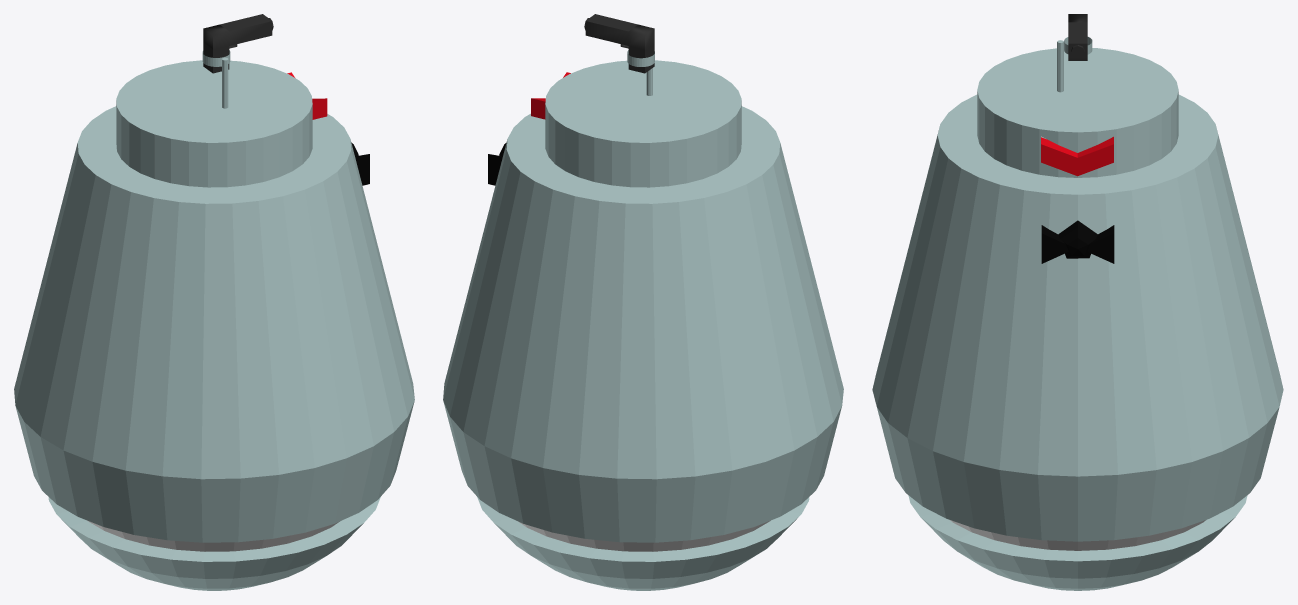
File: EnemyRobot.fbx
The picture shows the model from 3 angles, left to right: view 1: azimuth 30°, elevation 25°; view 2: azimuth 150°, elevation 25°; view 3: azimuth 270°, elevation 25°; orthographic projection. The views are drawn at different scales.
Parts seen in each view (by area): view 1: RobotBody, Pistol; view 2: RobotBody, Pistol; view 3: RobotBody, Pistol.
Boxes of the visible parts, x1=… form: RobotBody: x1=14, y1=50, x2=414, y2=590; Pistol: x1=203, y1=14, x2=273, y2=73; RobotBody: x1=443, y1=50, x2=843, y2=590; Pistol: x1=584, y1=14, x2=654, y2=73; RobotBody: x1=872, y1=37, x2=1283, y2=590; Pistol: x1=1068, y1=14, x2=1087, y2=60.
Bounding box in the file's own units: 243 × 362 × 243.
